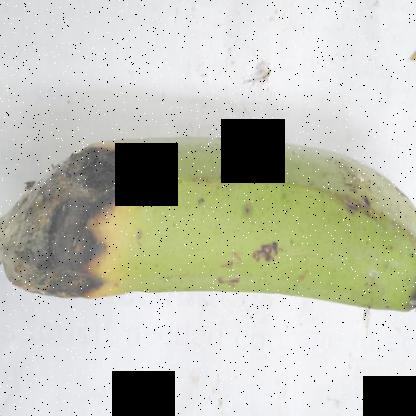rotten: (0, 96, 154, 322)
unripe: (133, 122, 415, 309)
